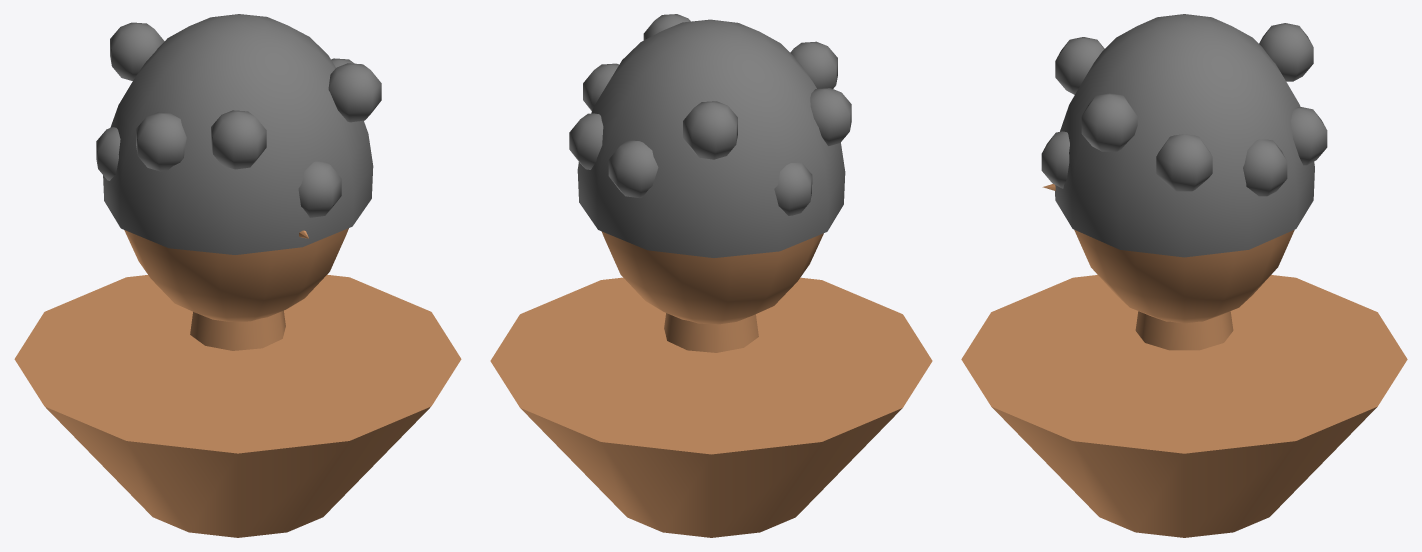
The model's file is raw_002.glb.
The picture shows the model from 3 angles, left to right: view 1: azimuth 30°, elevation 25°; view 2: azimuth 150°, elevation 25°; view 3: azimuth 270°, elevation 25°; orthographic projection.
Bounding box in the file's own units: 1.92 × 2.24 × 1.92.
